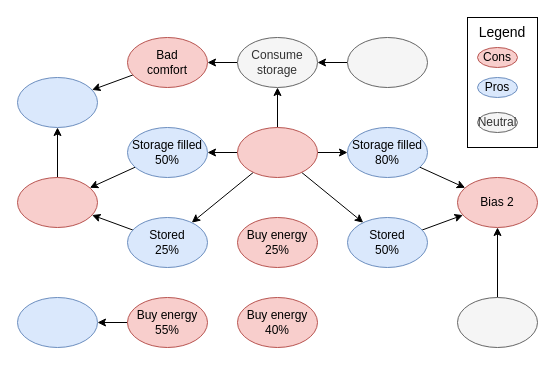
Image size: 555x365. Some labels were removed from this diagram. The shapes that lost their labels are listed below. From the top down, each one's centre as x and y in pixels, then its label:
(x=387, y=62): Over-consume
(x=57, y=102): Bias 1
(x=277, y=152): Buy energy 15%
(x=57, y=202): High global energy
(x=57, y=322): Bias 3
(x=497, y=322): Low global energy
